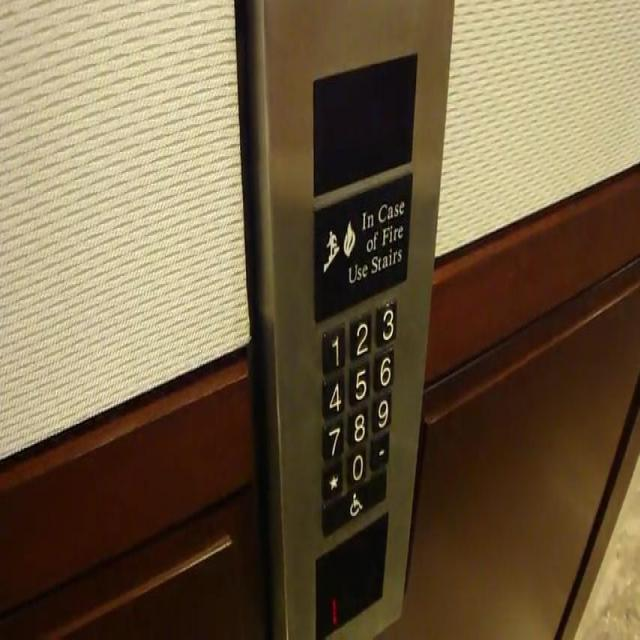-: (370, 430, 388, 470)
0: (347, 446, 366, 486)
1: (322, 321, 344, 371)
2: (349, 309, 370, 360)
3: (376, 297, 396, 347)
4: (321, 371, 344, 417)
5: (348, 360, 368, 405)
6: (374, 345, 393, 391)
7: (322, 418, 343, 462)
8: (348, 404, 367, 447)
9: (372, 389, 390, 432)
led: (312, 52, 416, 196), (315, 512, 387, 639)
s: (322, 461, 342, 499)
